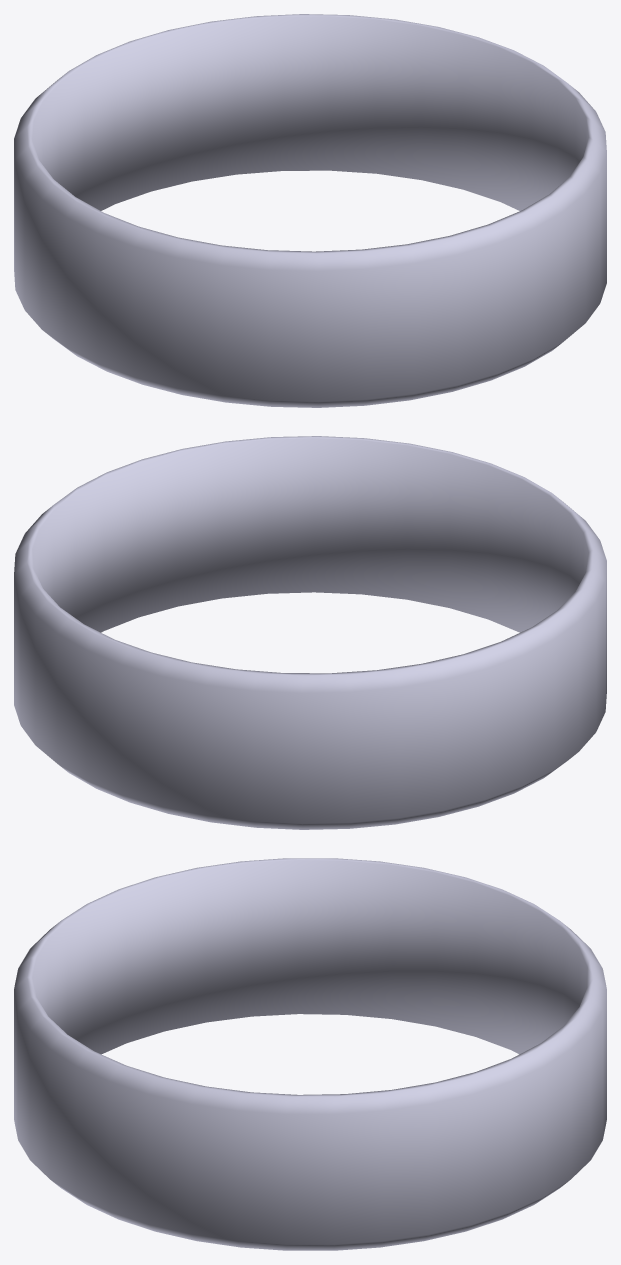
File: ring_small.dae
The picture shows the model from 3 angles, top to bottom: view 1: azimuth 30°, elevation 25°; view 2: azimuth 150°, elevation 25°; view 3: azimuth 270°, elevation 25°; orthographic projection.
Parts seen in each view (by area): view 1: Ring Small; view 2: Ring Small; view 3: Ring Small.
Boxes of the visible parts, box(x1,y1,x2,y2) form: Ring Small: box(14, 14, 606, 407); Ring Small: box(14, 436, 606, 829); Ring Small: box(14, 858, 606, 1250).
Bounding box in the file's own units: 0.0679 × 0.0681 × 0.0195.
